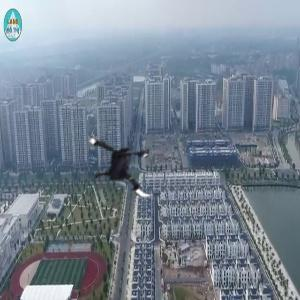drone: (75, 115, 172, 212)
